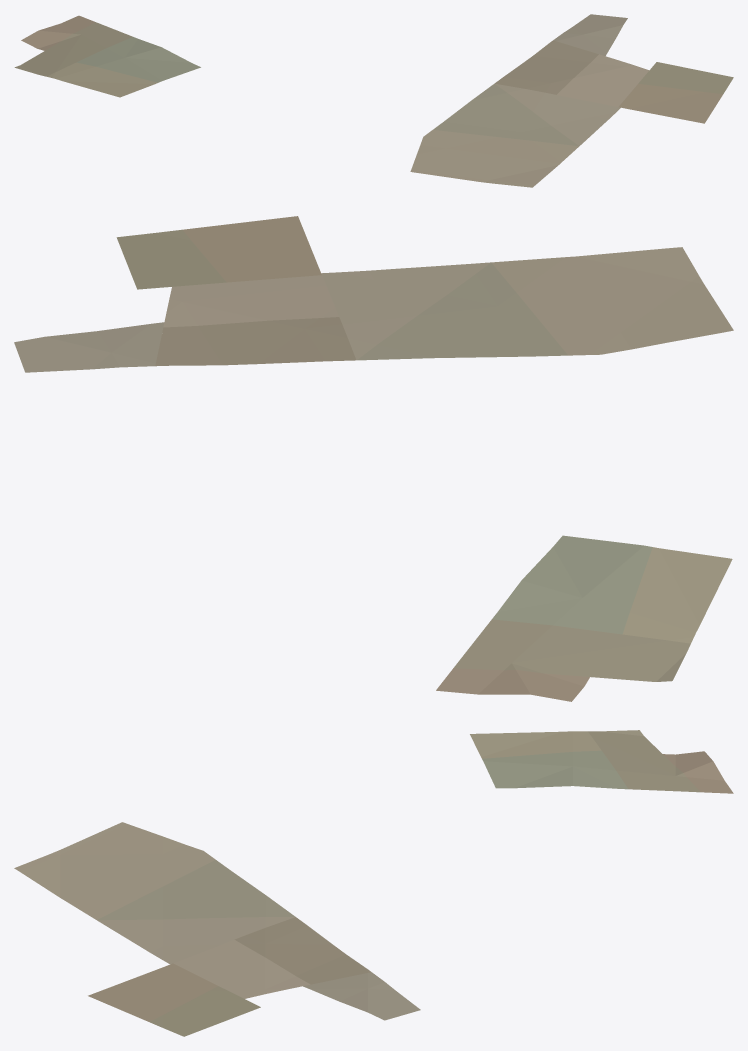
Rendered from farm_21_21_soil.glb.
3 views of the same model, one above another, from view 1: azimuth 30°, elevation 25°; view 2: azimuth 150°, elevation 25°; view 3: azimuth 270°, elevation 25° (orthographic). The views are drawn at different scales.
Parts seen in each view (by area): view 1: geometry_0; view 2: geometry_0; view 3: geometry_0.
Boxes of the visible parts, bbox=[...] form: geometry_0: bbox=[14, 14, 733, 187]; geometry_0: bbox=[14, 216, 733, 701]; geometry_0: bbox=[14, 730, 733, 1036].
Bounding box in the file's own units: 568 × 17.05 × 562.
